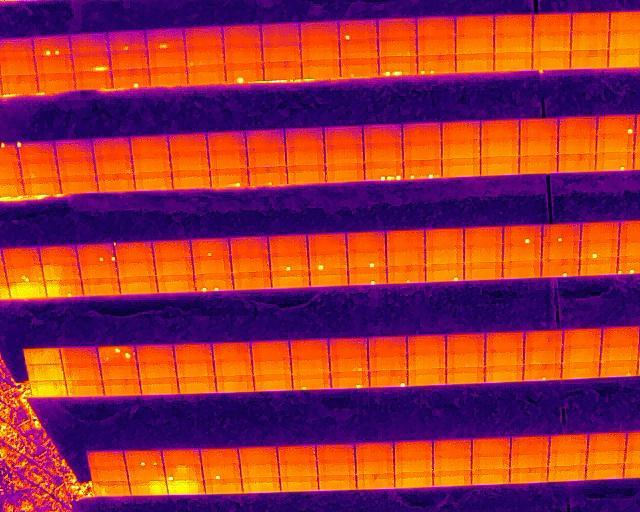Cell: (340, 19, 378, 41), (247, 166, 286, 187), (596, 114, 636, 134), (532, 51, 570, 72), (147, 28, 185, 49), (271, 251, 310, 271), (191, 238, 230, 258), (542, 223, 581, 243), (340, 58, 379, 78), (109, 30, 146, 51), (502, 225, 542, 244), (210, 167, 248, 187), (426, 264, 464, 284), (542, 258, 581, 277), (369, 369, 408, 388), (386, 265, 425, 284), (112, 68, 149, 88), (115, 242, 153, 261), (595, 152, 633, 171), (18, 141, 56, 160), (580, 240, 617, 259), (347, 250, 386, 268), (348, 267, 387, 285), (293, 372, 331, 390), (309, 253, 347, 271), (225, 63, 263, 81), (599, 360, 638, 377), (46, 279, 82, 297), (331, 371, 369, 388), (523, 364, 561, 381), (202, 464, 241, 480), (164, 465, 203, 481)
Cell-Multi: (418, 54, 456, 75), (403, 159, 442, 179), (379, 56, 417, 76), (33, 35, 71, 55), (365, 161, 404, 180), (195, 273, 234, 292), (78, 244, 114, 264), (194, 256, 233, 274), (330, 353, 368, 371), (5, 264, 43, 282), (97, 345, 136, 362), (124, 450, 163, 466)
No-Anomaly: (150, 65, 187, 89), (364, 140, 403, 162), (229, 235, 269, 256), (377, 18, 417, 39), (187, 64, 225, 86), (285, 125, 324, 146), (308, 233, 348, 253), (580, 222, 620, 242), (206, 131, 246, 151), (569, 49, 609, 69), (325, 143, 363, 164), (403, 140, 441, 161), (347, 231, 386, 251), (247, 147, 286, 167), (494, 52, 533, 72), (185, 45, 224, 65), (185, 26, 224, 46), (300, 21, 339, 41), (456, 15, 495, 35), (533, 13, 572, 33), (152, 241, 193, 260), (268, 234, 308, 253), (464, 225, 504, 244), (171, 168, 209, 188), (480, 155, 518, 175), (557, 153, 595, 173), (208, 149, 248, 168), (224, 25, 262, 45), (425, 246, 464, 265), (464, 244, 503, 263), (386, 229, 425, 248), (22, 175, 61, 194), (325, 163, 364, 182), (286, 146, 325, 165), (92, 137, 131, 156), (417, 18, 456, 37), (329, 335, 368, 354), (233, 271, 272, 290), (503, 260, 542, 279), (596, 133, 635, 152), (324, 124, 363, 143), (456, 53, 495, 72), (417, 36, 456, 55), (456, 35, 495, 54), (495, 15, 534, 34), (571, 12, 610, 31), (245, 128, 284, 147), (559, 115, 596, 135), (71, 32, 108, 52), (134, 170, 172, 189), (519, 154, 557, 173), (481, 136, 519, 155), (302, 59, 340, 78), (148, 47, 186, 66), (407, 349, 445, 368), (579, 258, 617, 277), (558, 134, 596, 153), (302, 41, 340, 60), (533, 32, 571, 51), (425, 228, 465, 246), (132, 152, 172, 170), (170, 152, 210, 170), (168, 134, 208, 152), (173, 342, 213, 360), (129, 135, 169, 153), (0, 55, 36, 75), (40, 246, 77, 265), (443, 156, 480, 175), (110, 50, 147, 69), (263, 26, 300, 45), (215, 374, 254, 392), (387, 247, 426, 265), (54, 139, 93, 157), (441, 138, 480, 156), (472, 437, 511, 455), (26, 363, 65, 381), (291, 355, 330, 373), (251, 340, 290, 358), (368, 335, 407, 353), (271, 270, 310, 288), (363, 123, 402, 141), (441, 120, 480, 138), (481, 118, 520, 136), (263, 44, 302, 62), (378, 39, 417, 57), (58, 175, 96, 193), (403, 122, 441, 140), (485, 346, 523, 364), (602, 327, 640, 345), (120, 277, 158, 295), (157, 275, 195, 293), (519, 135, 557, 153), (520, 117, 558, 135), (224, 45, 262, 63), (340, 40, 378, 58), (571, 31, 609, 49), (464, 262, 502, 280), (287, 165, 324, 183), (38, 73, 75, 91), (408, 367, 445, 385), (485, 364, 522, 382), (0, 75, 37, 93), (36, 56, 73, 74), (0, 37, 35, 56), (64, 378, 103, 395), (140, 377, 179, 394), (253, 373, 292, 390), (503, 243, 542, 260), (96, 173, 135, 190), (56, 157, 95, 174), (94, 156, 133, 173), (278, 445, 317, 462), (494, 34, 533, 51), (62, 362, 101, 379), (175, 360, 214, 377), (446, 349, 485, 366), (290, 338, 329, 355), (407, 333, 446, 350), (92, 480, 131, 497), (155, 259, 194, 276), (162, 449, 201, 466), (433, 439, 472, 456), (138, 361, 177, 378), (9, 281, 45, 299), (102, 378, 140, 395), (177, 376, 215, 393), (2, 247, 40, 264), (433, 469, 471, 486), (20, 159, 58, 176), (512, 437, 550, 454), (446, 366, 484, 383), (561, 361, 599, 378), (524, 346, 562, 363), (136, 344, 174, 361), (264, 61, 302, 78), (317, 445, 355, 462), (310, 270, 348, 287), (524, 330, 562, 347), (251, 357, 291, 373), (230, 256, 270, 272), (81, 278, 118, 295), (75, 72, 112, 89), (562, 344, 599, 361), (542, 242, 581, 258), (241, 462, 280, 478), (100, 362, 139, 378), (600, 344, 639, 360), (446, 333, 485, 349), (485, 331, 524, 347), (548, 465, 587, 481), (201, 449, 240, 465), (239, 447, 278, 463), (355, 445, 394, 461), (588, 434, 627, 450), (549, 436, 588, 452), (214, 358, 253, 374), (60, 347, 99, 363), (212, 342, 251, 358), (242, 477, 280, 493), (280, 475, 318, 491), (318, 475, 356, 491), (357, 473, 395, 489), (472, 468, 510, 484), (30, 380, 68, 396), (369, 353, 407, 369), (117, 262, 155, 278), (88, 451, 126, 467), (562, 330, 602, 345), (394, 473, 433, 488), (586, 463, 625, 478), (472, 454, 511, 469), (394, 444, 433, 459), (24, 348, 60, 364), (395, 458, 433, 473), (433, 455, 471, 470), (43, 265, 81, 280), (129, 480, 167, 495), (510, 467, 548, 482), (279, 461, 317, 476), (548, 451, 588, 465), (204, 479, 241, 494), (79, 264, 116, 279), (317, 462, 356, 476), (587, 450, 626, 464), (166, 480, 204, 494), (90, 466, 128, 480), (511, 453, 549, 467), (127, 467, 165, 481), (356, 462, 394, 475)
Unclassified: (73, 52, 109, 72)
